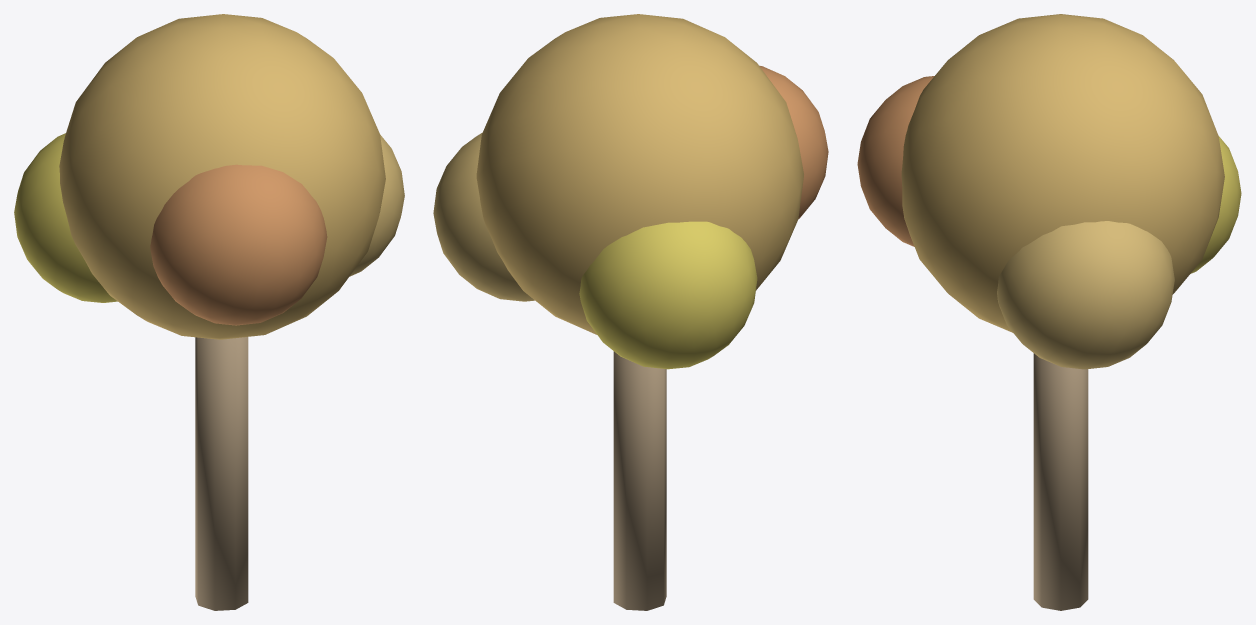
The model's file is plant_tree_oak_autumn.glb.
3 views of the same model, side by side, from view 1: azimuth 30°, elevation 25°; view 2: azimuth 150°, elevation 25°; view 3: azimuth 270°, elevation 25° (orthographic).
Visible parts, largest first — view 1: crown_main, crown_sub1, trunk, crown_sub2, crown_sub0; view 2: crown_main, crown_sub2, trunk, crown_sub0, crown_sub1; view 3: crown_main, crown_sub0, trunk, crown_sub1, crown_sub2.
Boxes of the visible parts, bbox=[...] form: crown_main: bbox=[59, 14, 385, 339]; crown_sub1: bbox=[150, 164, 327, 325]; trunk: bbox=[195, 337, 248, 610]; crown_sub2: bbox=[14, 133, 117, 302]; crown_sub0: bbox=[349, 134, 404, 276]; crown_main: bbox=[476, 14, 803, 334]; crown_sub2: bbox=[579, 221, 757, 369]; trunk: bbox=[613, 351, 666, 610]; crown_sub0: bbox=[433, 132, 534, 301]; crown_sub1: bbox=[759, 65, 828, 218]; crown_main: bbox=[901, 14, 1224, 332]; crown_sub0: bbox=[997, 221, 1174, 369]; trunk: bbox=[1033, 353, 1088, 610]; crown_sub1: bbox=[857, 76, 934, 246]; crown_sub2: bbox=[1190, 136, 1241, 273].
Bounding box in the file's own units: 0.9848 × 1.61 × 0.9835.
